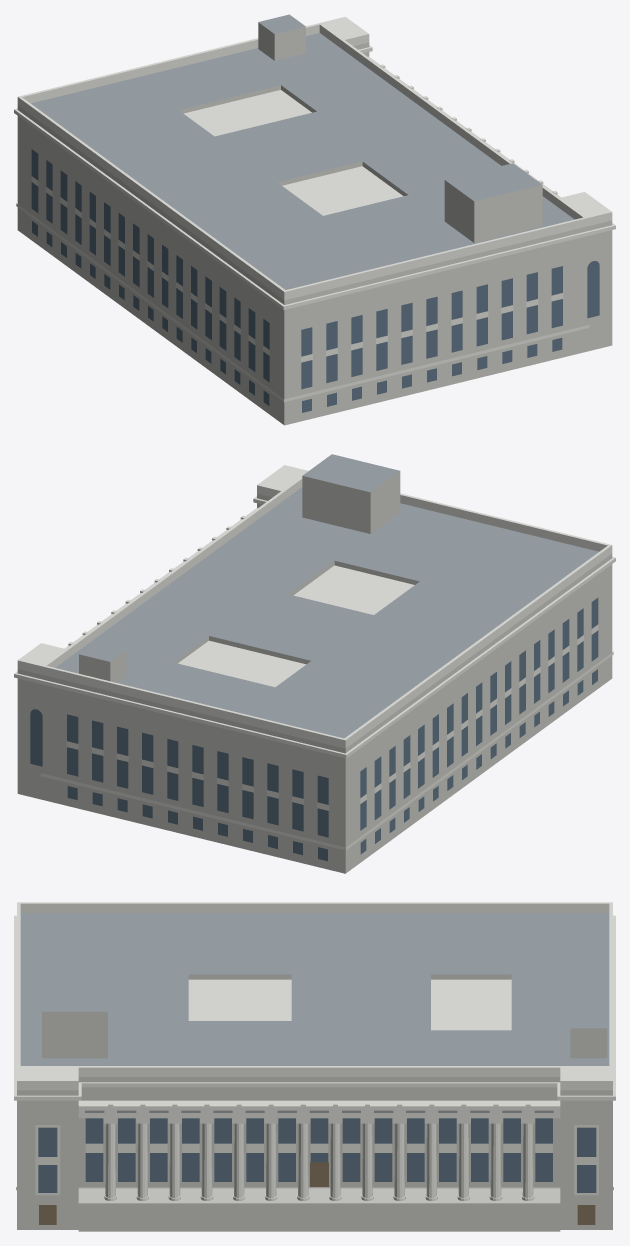
File: slc-frank-e-moss-courthouse.glb
3 views of the same model, one above another, from view 1: azimuth 30°, elevation 25°; view 2: azimuth 150°, elevation 25°; view 3: azimuth 270°, elevation 25° (orthographic). The views are drawn at different scales.
Visible parts, largest first — view 1: Frank E. Moss United States Courthouse; view 2: Frank E. Moss United States Courthouse; view 3: Frank E. Moss United States Courthouse.
Part boxes in pixels (x1=…): Frank E. Moss United States Courthouse: x1=14, y1=14, x2=615, y2=425; Frank E. Moss United States Courthouse: x1=14, y1=454, x2=615, y2=873; Frank E. Moss United States Courthouse: x1=14, y1=902, x2=615, y2=1231.
Size of the model in its own units: 58.6 by 28 by 82.
